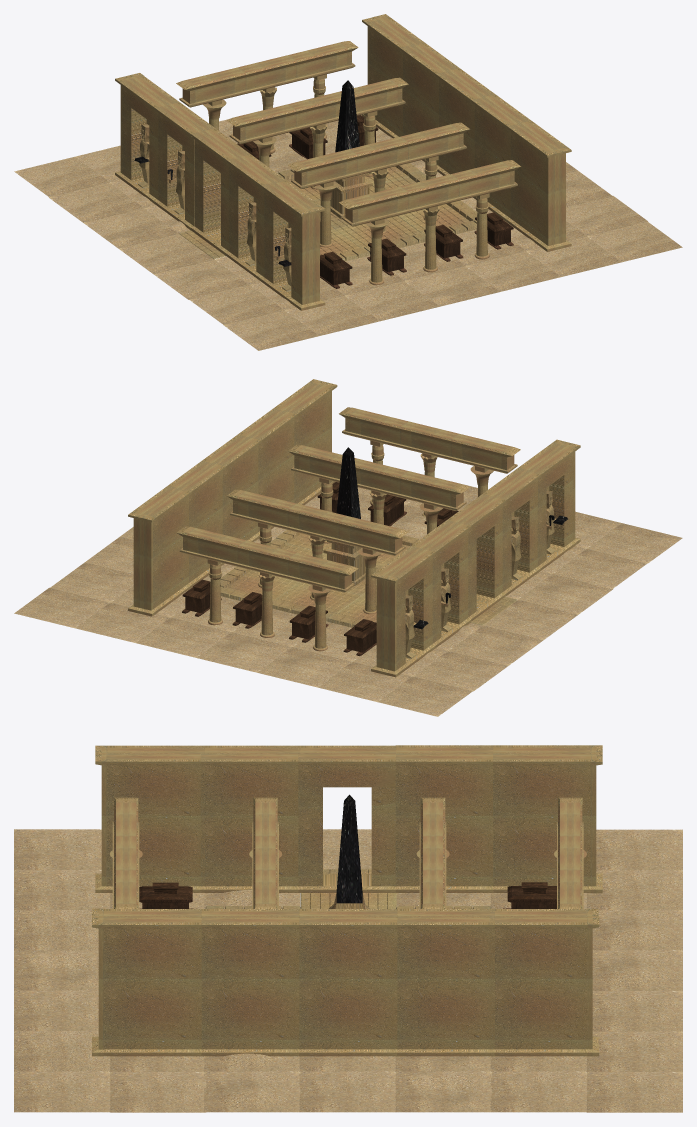
File: 1Luxor-temple.glb
3 renders of one model, top to bottom at view 1: azimuth 30°, elevation 25°; view 2: azimuth 150°, elevation 25°; view 3: azimuth 270°, elevation 25°, orthographic. The views are drawn at different scales.
Parts seen in each view (by area): view 1: Object_10, Object_17, Object_12, Object_5, Object_21, Object_15, Object_7, Object_3, Object_13, Object_19, Object_18, Object_2 (+5 smaller); view 2: Object_10, Object_17, Object_12, Object_5, Object_13, Object_15, Object_21, Object_7, Object_3, Object_18, Object_2, Object_4 (+3 smaller); view 3: Object_5, Object_17, Object_6, Object_13, Object_12, Object_10, Object_21, Object_18, Object_19, Object_7, Object_8, Object_3 (+2 smaller).
Part boxes in pixels (left/top/right/bottom): Object_10: left=176, top=41, right=520, bottom=285; Object_17: left=14, top=115, right=682, bottom=350; Object_12: left=119, top=79, right=307, bottom=307; Object_5: left=366, top=17, right=566, bottom=248; Object_21: left=49, top=182, right=619, bottom=335; Object_15: left=179, top=163, right=477, bottom=261; Object_7: left=115, top=14, right=571, bottom=310; Object_3: left=237, top=115, right=513, bottom=288; Object_13: left=119, top=120, right=577, bottom=284; Object_19: left=346, top=251, right=560, bottom=320; Object_18: left=75, top=127, right=404, bottom=309; Object_2: left=330, top=80, right=372, bottom=219; Object_10: left=176, top=407, right=520, bottom=651; Object_17: left=14, top=493, right=682, bottom=716; Object_12: left=388, top=446, right=576, bottom=673; Object_5: left=132, top=382, right=332, bottom=613; Object_13: left=120, top=493, right=577, bottom=687; Object_15: left=220, top=530, right=517, bottom=627; Object_21: left=50, top=511, right=621, bottom=691; Object_7: left=128, top=379, right=580, bottom=677; Object_3: left=182, top=482, right=458, bottom=655; Object_18: left=111, top=546, right=585, bottom=702; Object_2: left=323, top=447, right=365, bottom=585; Object_4: left=405, top=491, right=561, bottom=658; Object_5: left=103, top=909, right=587, bottom=1056; Object_17: left=14, top=829, right=682, bottom=1112; Object_6: left=107, top=753, right=590, bottom=892; Object_13: left=204, top=829, right=682, bottom=1112; Object_12: left=107, top=745, right=591, bottom=892; Object_10: left=112, top=797, right=583, bottom=908; Object_21: left=14, top=870, right=586, bottom=1112; Object_18: left=110, top=869, right=682, bottom=1071; Object_19: left=14, top=910, right=98, bottom=1031; Object_7: left=92, top=745, right=602, bottom=1056; Object_8: left=14, top=950, right=98, bottom=990; Object_3: left=139, top=882, right=556, bottom=908.
Bounding box in the file's own units: 156 × 45.96 × 155.
17 materials, 17 textured.
